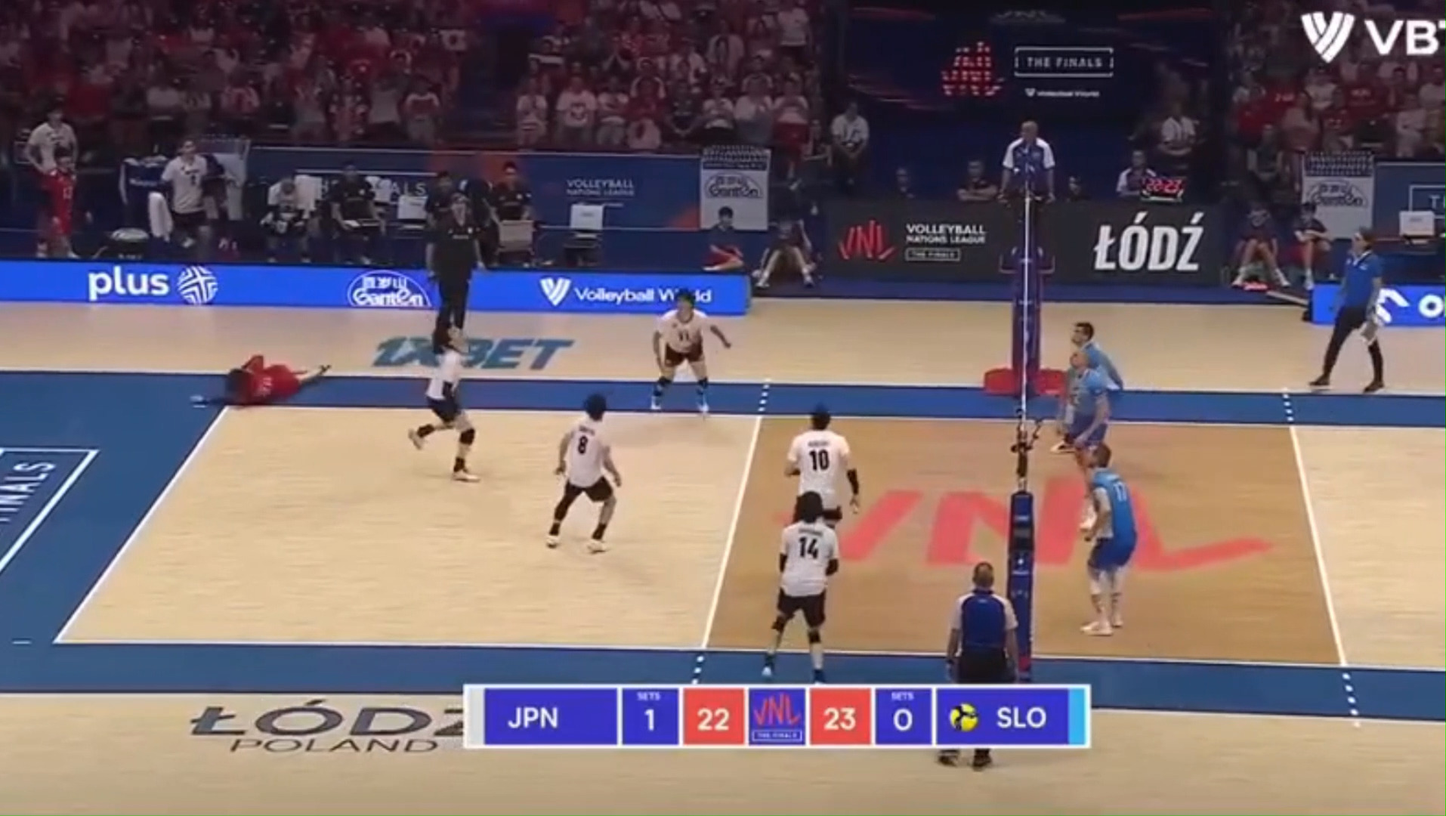player: (1080, 444, 1138, 636), (1063, 345, 1112, 468), (1071, 321, 1122, 386)
player 1: (762, 490, 839, 682), (546, 394, 621, 552), (409, 325, 477, 481), (650, 290, 731, 413), (786, 407, 860, 527), (198, 354, 329, 406)
referee: (1311, 228, 1384, 392), (945, 562, 1018, 684), (999, 120, 1055, 274), (425, 193, 482, 332)
